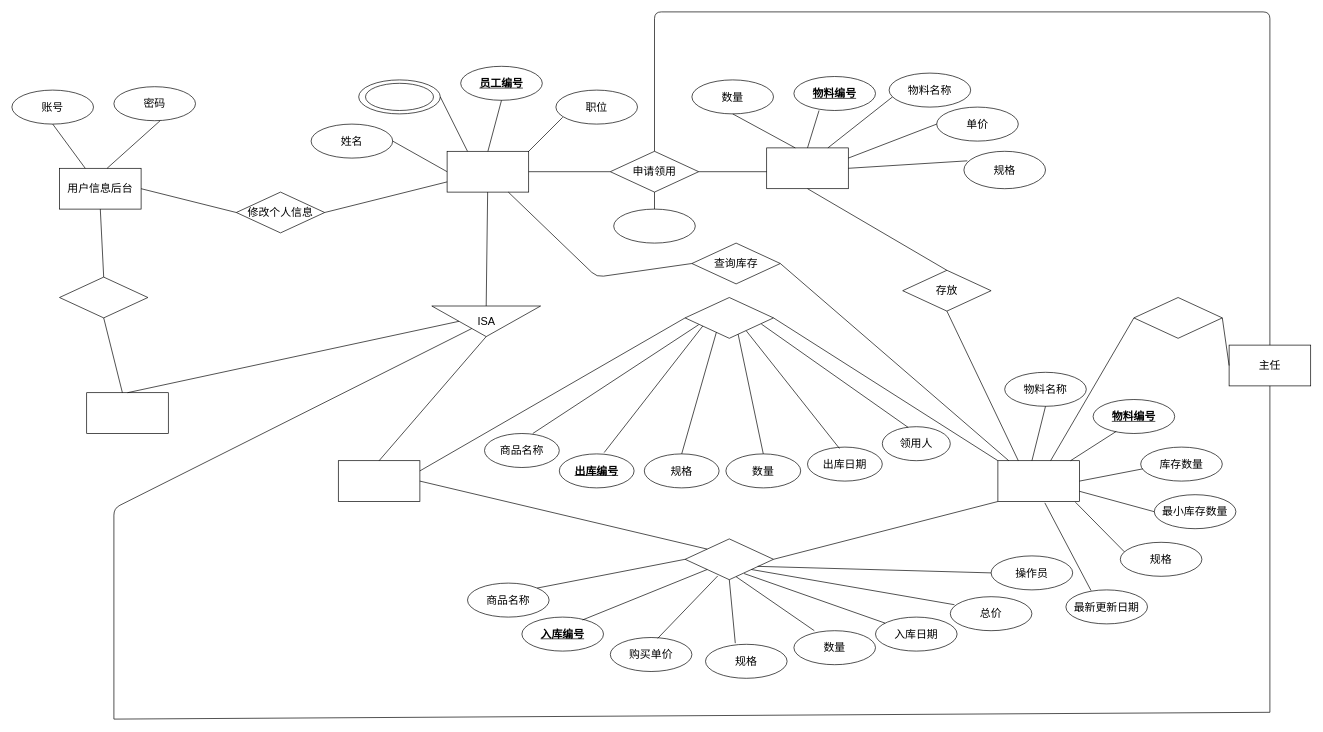
This 1323x732 diagram has some shape labels left out. Here are the shapes that lost their labels. From the top down, the box of each, then its label:
(365, 83, 434, 111): 电话号码
(446, 151, 529, 192): 员工
(766, 147, 848, 189): 物料
(613, 208, 695, 243): 申请表
(59, 276, 148, 318): 管理
(684, 297, 774, 338): 出库
(1133, 297, 1222, 338): 审批
(86, 392, 168, 434): 系统维护员
(338, 460, 420, 502): 仓库管理员
(997, 460, 1080, 502): 仓库
(684, 538, 774, 580): 入库
